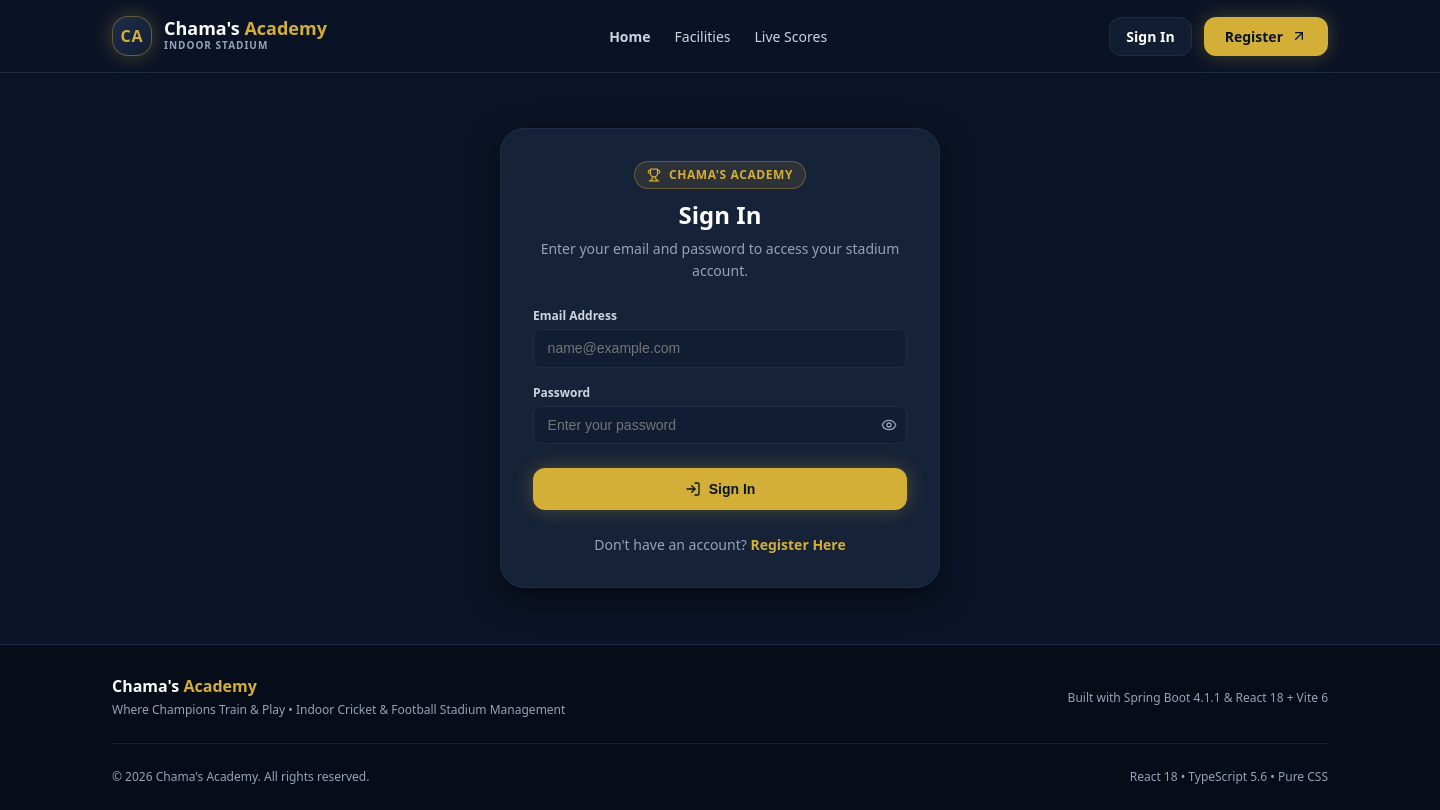
Test case: Login Page Component and Flow › handles 403 Forbidden inactive or suspended account with clear notice
The image size is (1440, 810).
Step 1. Type "suspended@example.com" into the field labelled "Email Address" → (720, 348), box [533,329,907,368]
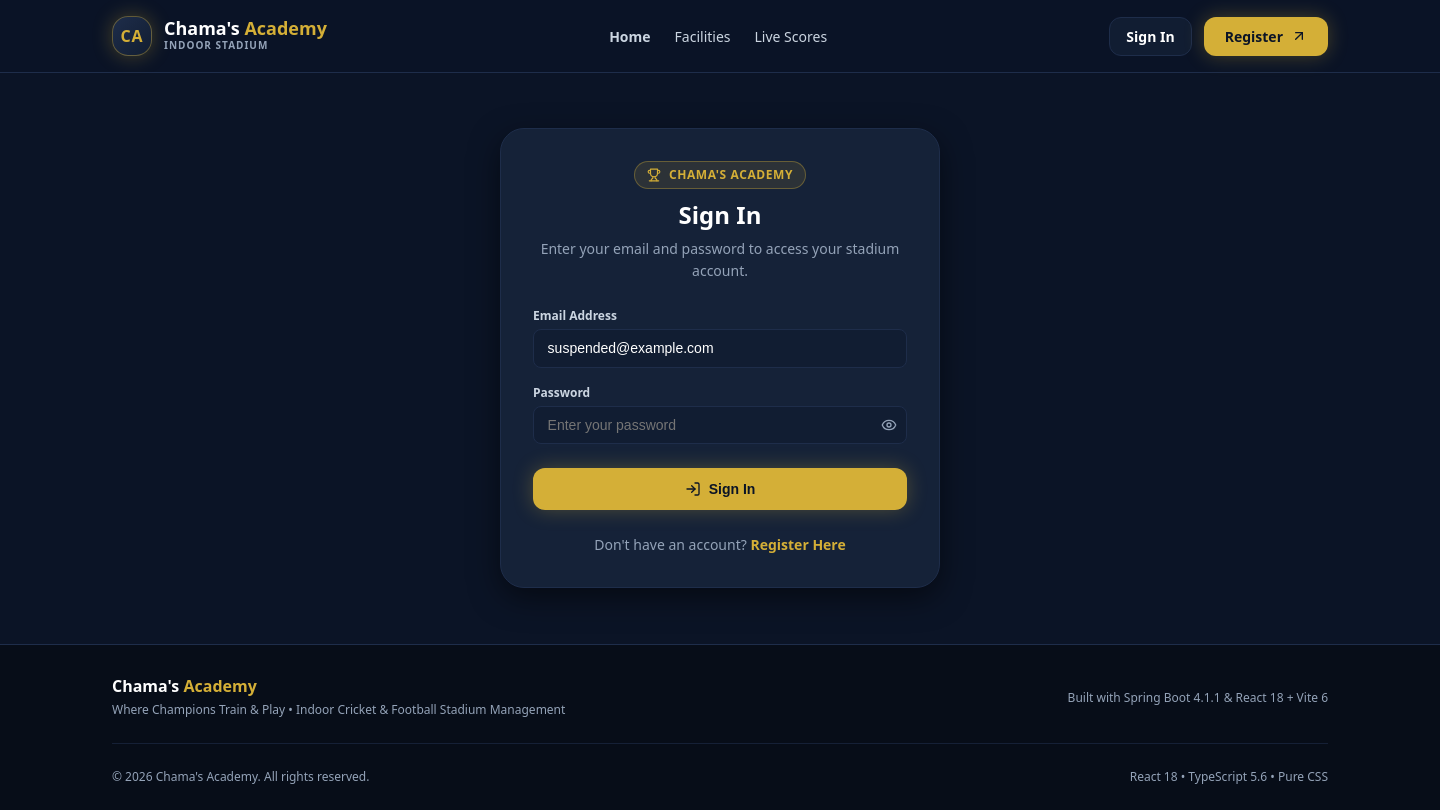
Step 2. Type "ValidPass123!" into the password field labelled "Password" → (720, 425), box [533,406,907,444]
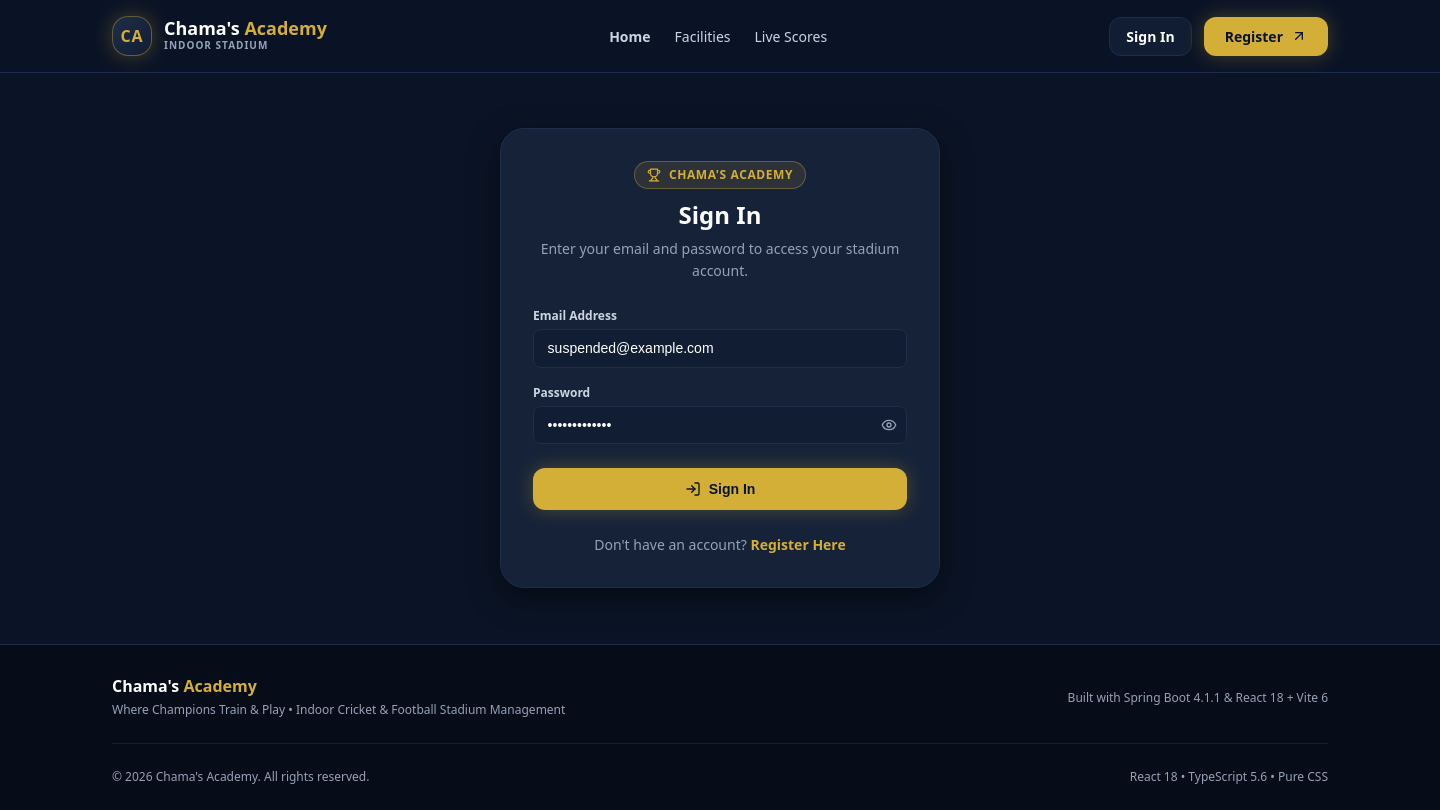
Step 3. Click the button "Sign In" → (720, 489), box [533,468,907,510]
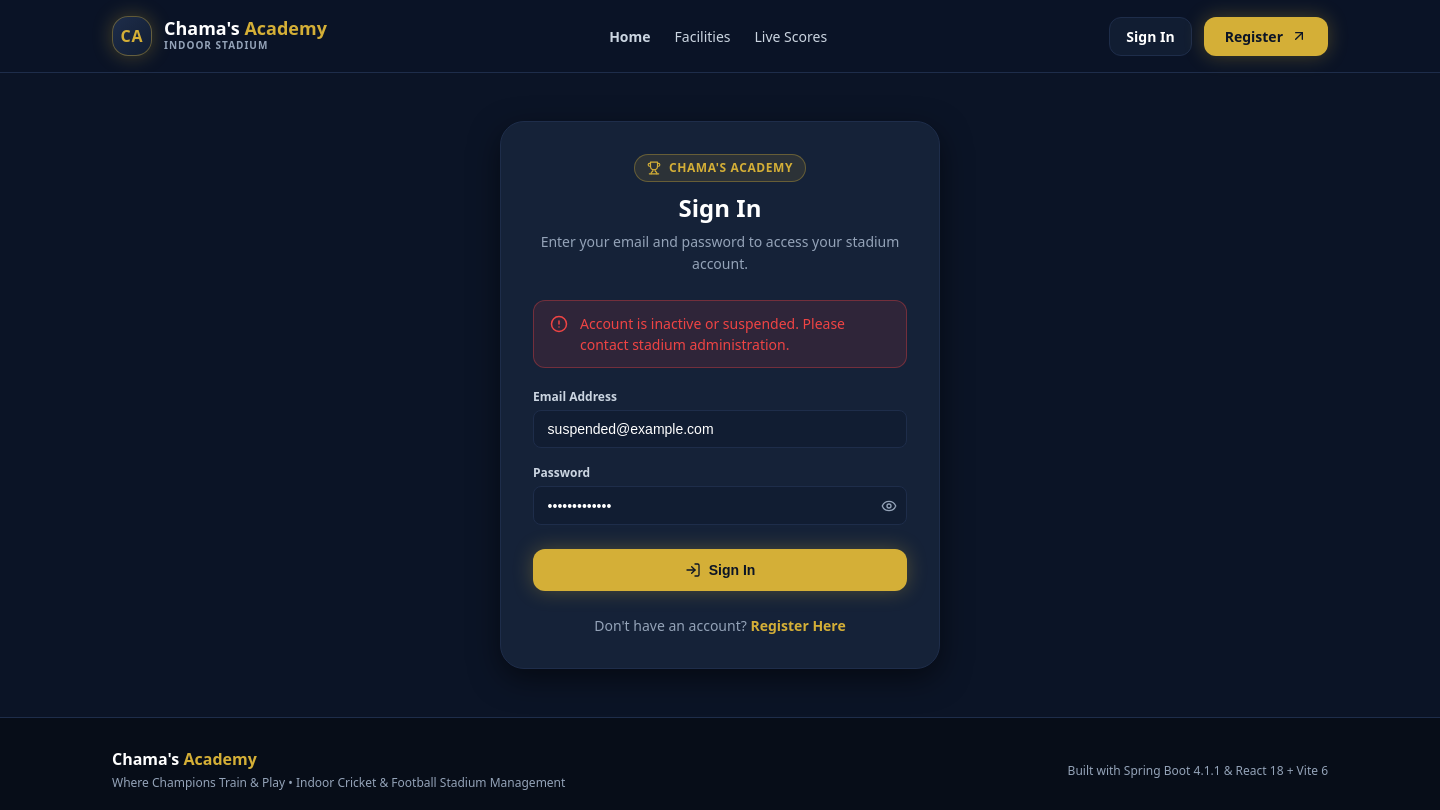
Result: the message "Account is inactive or suspended. Please contact stadium administration." is shown at [533,300,907,368]
Result: the text "Account is inactive or suspended. Please contact stadium administration." is shown at [580,313,890,355]
